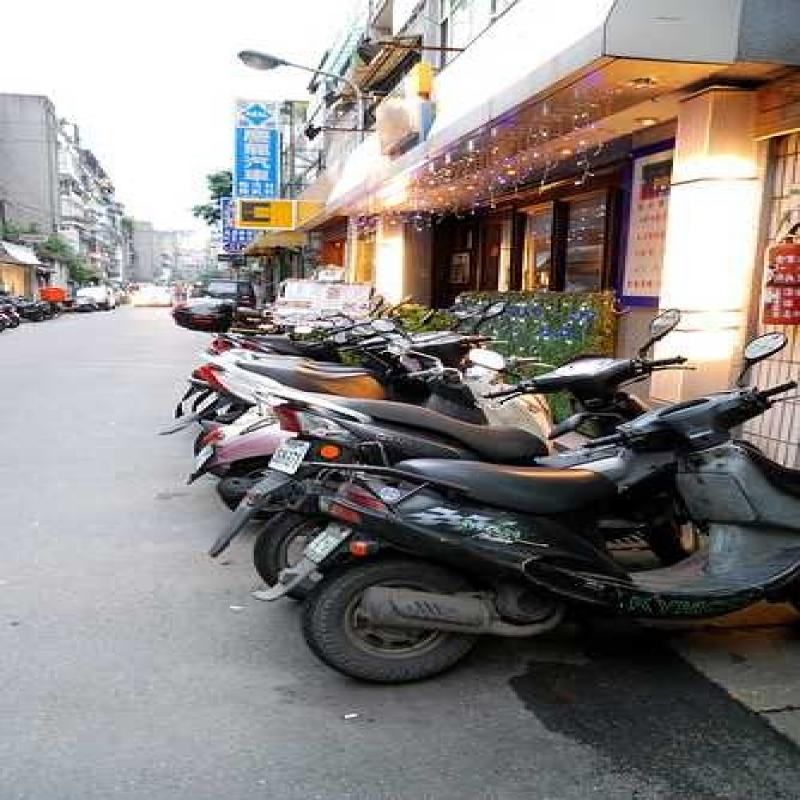bike: (290, 382, 800, 674), (226, 344, 707, 473)
